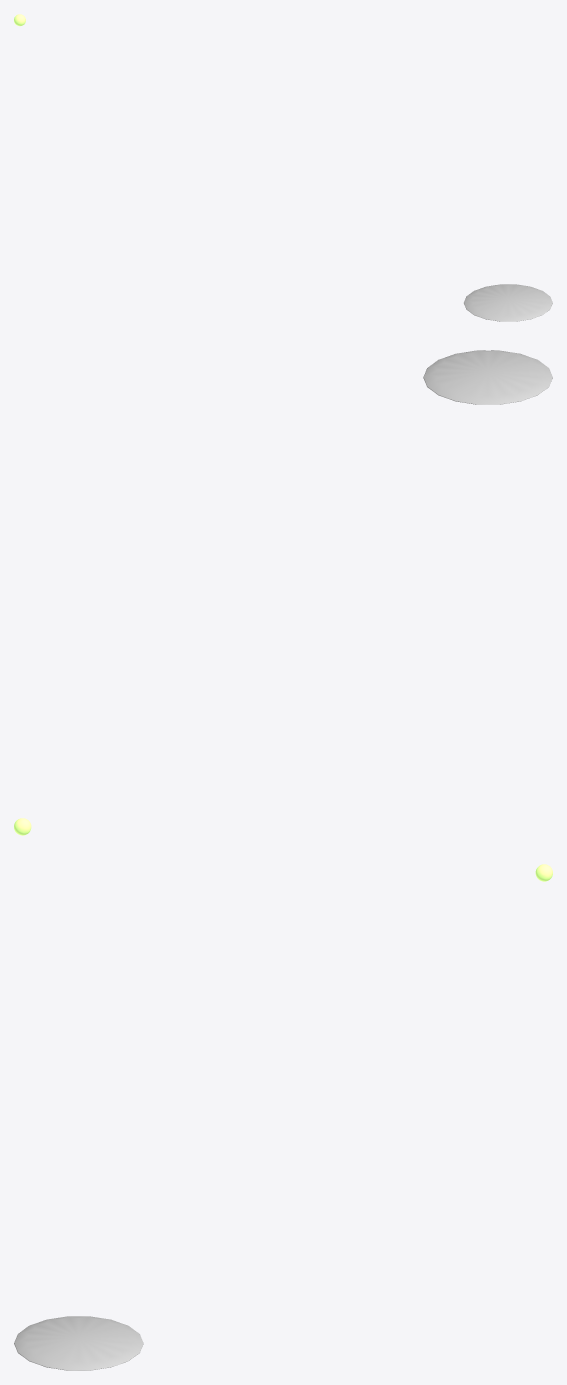
File: farm_crop_tomato_s0_v3.glb
3 renders of one model, top to bottom at view 1: azimuth 30°, elevation 25°; view 2: azimuth 150°, elevation 25°; view 3: azimuth 330°, elevation 25°, orthographic. The views are drawn at different scales.
Parts seen in each view (by area): view 1: soil.006; view 2: soil.006; view 3: soil.006.
Boxes of the visible parts, x1,y1,x2,y2 form: soil.006: (464, 284, 552, 321); soil.006: (423, 350, 552, 404); soil.006: (14, 1316, 143, 1370).
Bounding box in the file's own units: 0.9088 × 0.1153 × 5.31.
